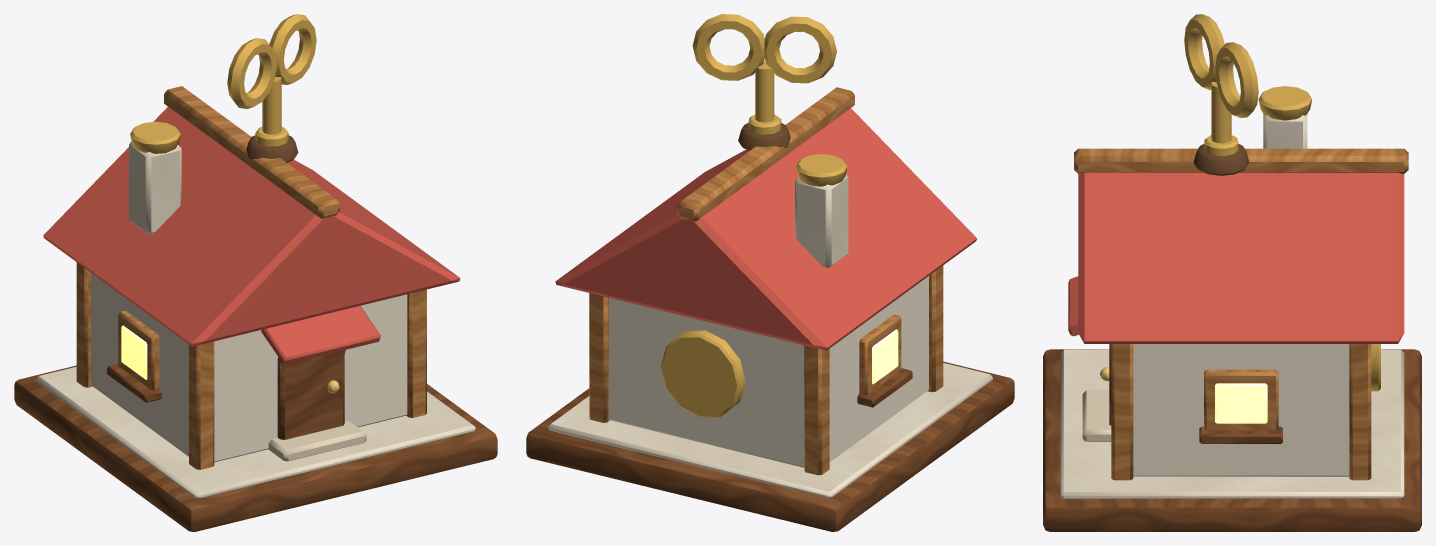
The model's file is atelier_soldats.glb.
The picture shows the model from 3 angles, left to right: view 1: azimuth 30°, elevation 25°; view 2: azimuth 150°, elevation 25°; view 3: azimuth 270°, elevation 25°; orthographic projection. The views are drawn at different scales.
Parts seen in each view (by area): view 1: atelier_soldats; view 2: atelier_soldats; view 3: atelier_soldats.
Boxes of the visible parts, x1,y1,x2,y2 form: atelier_soldats: [14, 14, 497, 531]; atelier_soldats: [526, 14, 1014, 531]; atelier_soldats: [1043, 14, 1421, 531].
Size of the model in its own units: 1.72 by 2.15 by 1.72.
Materials: 10 (3 with a texture image).
